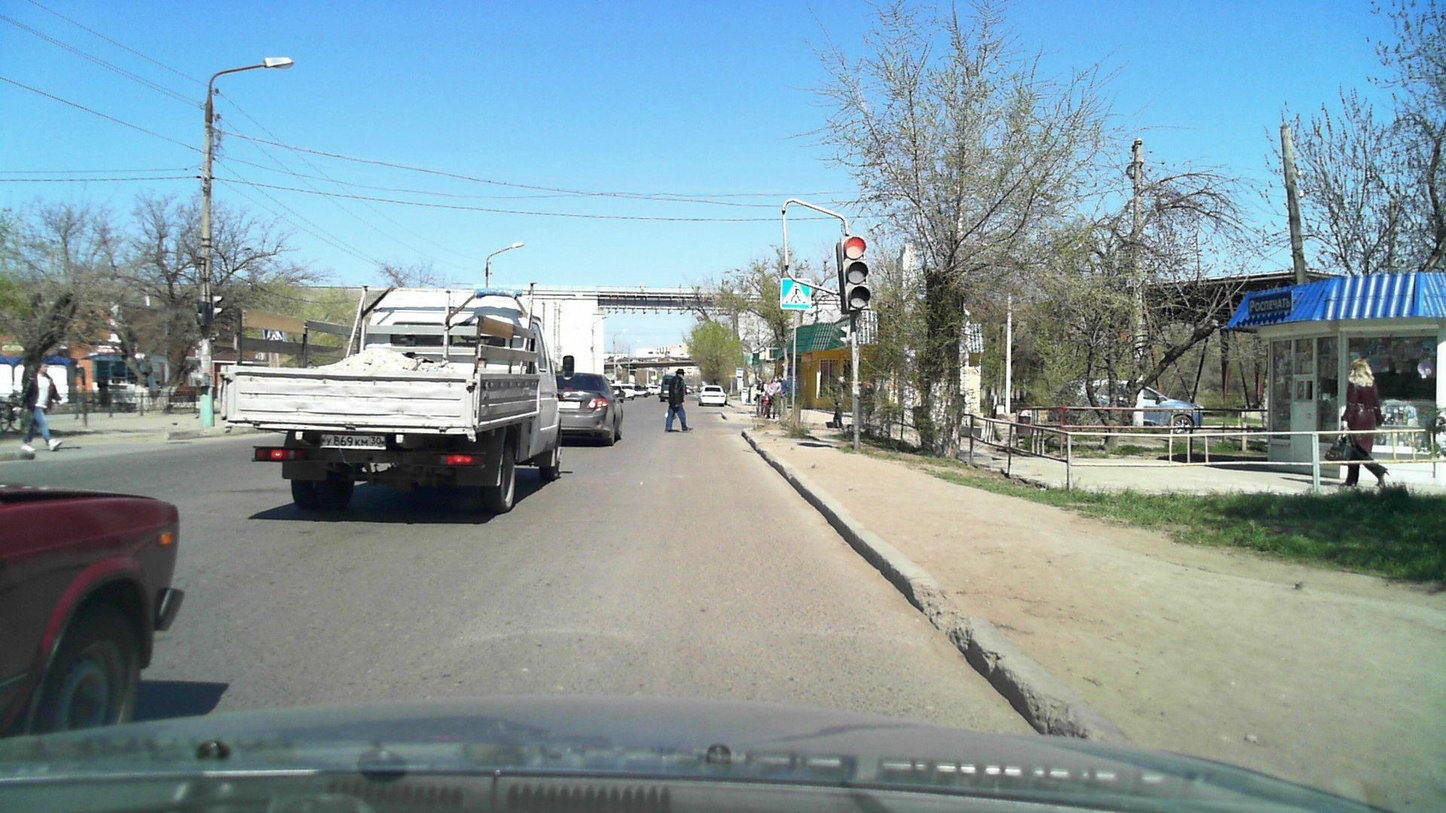obstructed_road_sign: (779, 277, 812, 311)
traffic light: (838, 236, 871, 313)
